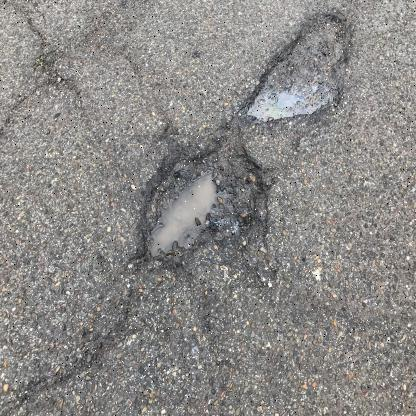pothole: (112, 136, 290, 290), (204, 4, 378, 161)
